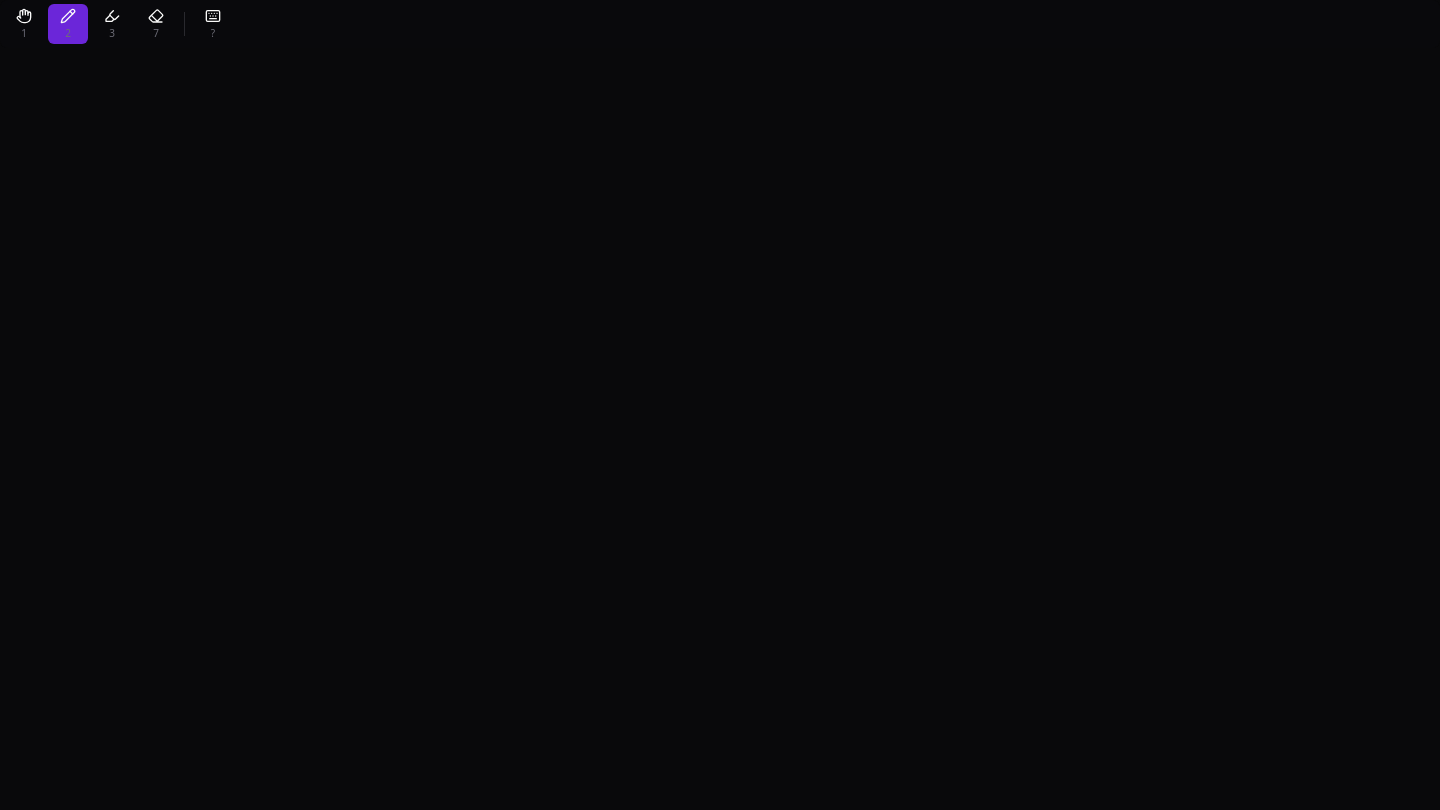
Test: AnnotationToolbar › keyboard shortcuts help dialog › opens help dialog when button is clicked
The width and height of the screenshot is (1440, 810).
Click the button with test id "tool-button-help": (213, 24) [193,4,233,44]
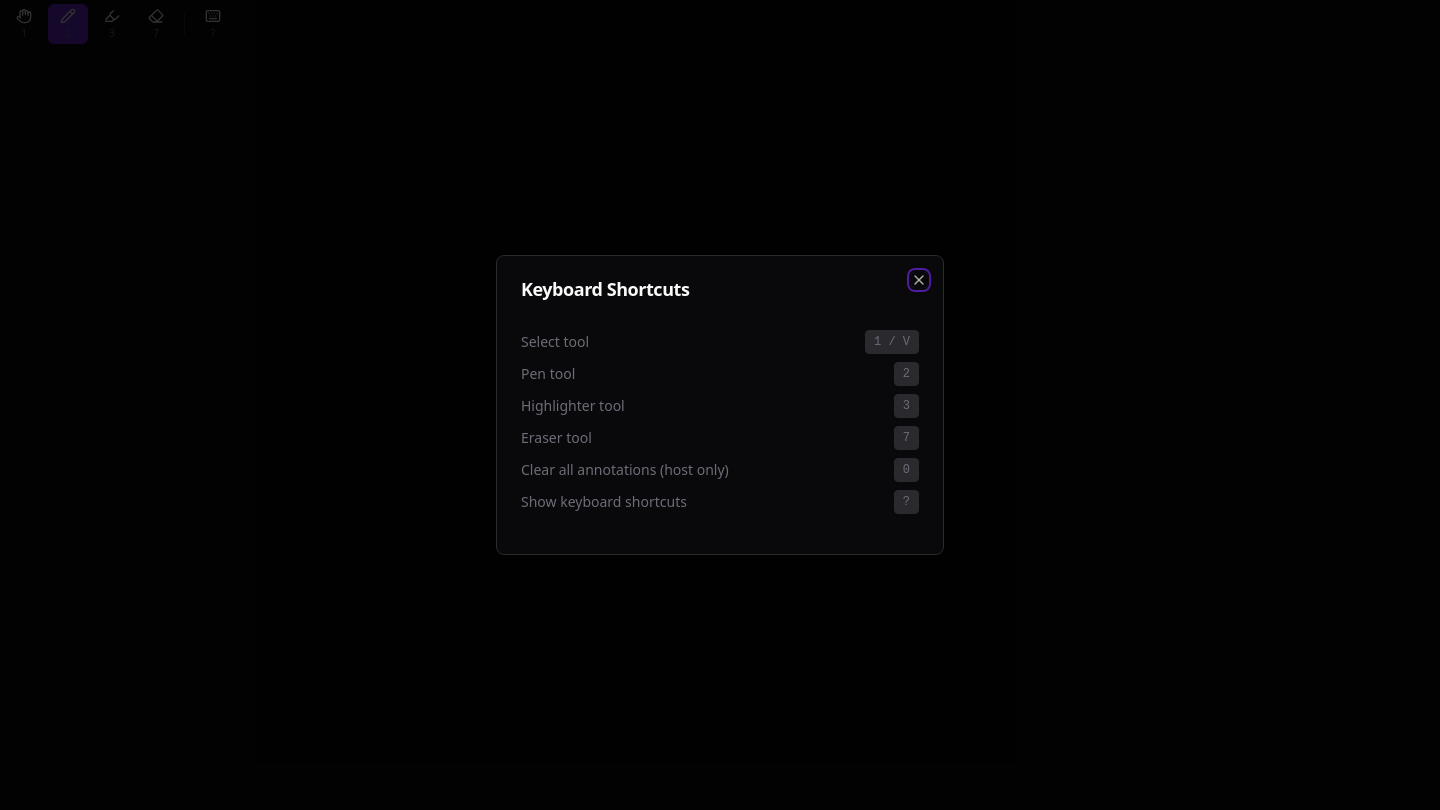
expect the dialog with test id "shortcuts-dialog" is shown: met, box [496,255,944,555]
expect the heading "Keyboard Shortcuts" is shown: met, box [521,277,689,301]
